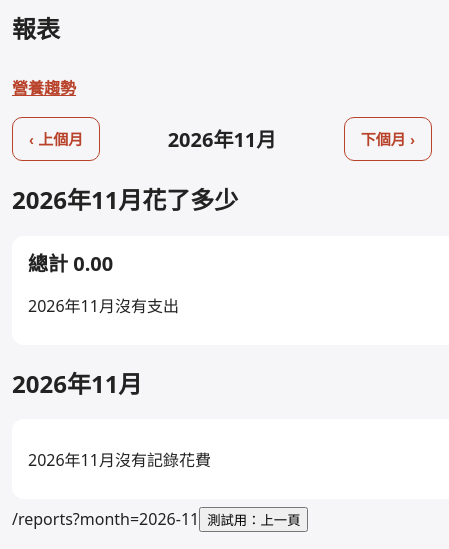
it: 報表：切換月份 › 過去的月份沒有資料、讀不到時，說的是那個月，不是「這個月」
Expected: the text "2026年11月沒有支出" is shown, [28, 295, 179, 317]
Expected: the text "2026年11月沒有記錄花費" is shown, [28, 449, 211, 471]
Click the button "‹ 上個月": (56, 139) [12, 117, 100, 161]
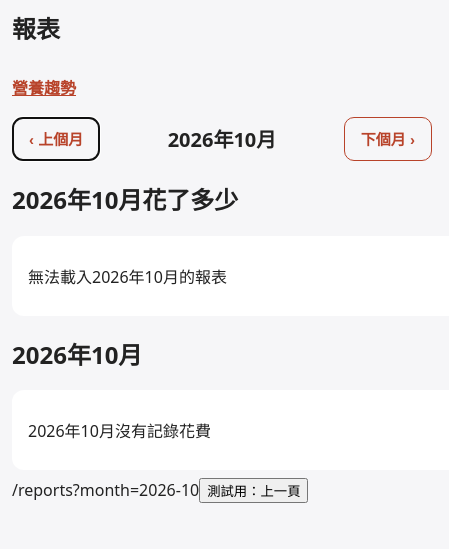
Now the text "無法載入2026年10月的報表" is shown, box [28, 266, 227, 288]
Now the text with test id "location" reads "/reports?month=2026-10", box [12, 479, 199, 501]
